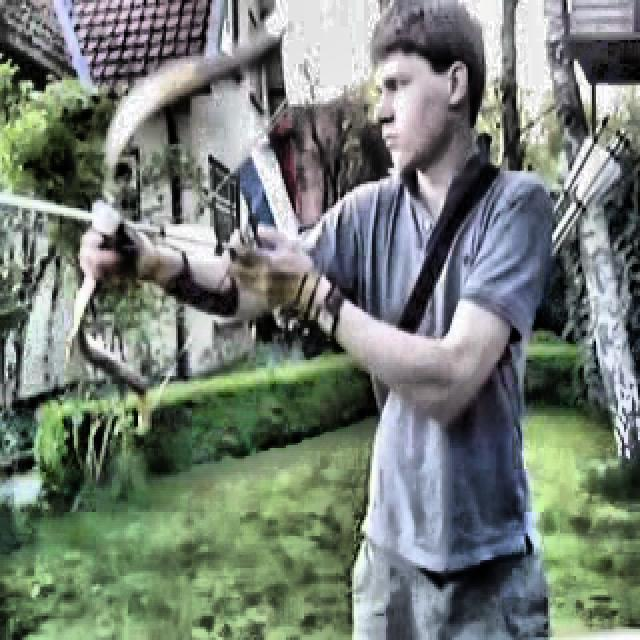P: (84, 4, 556, 634)
